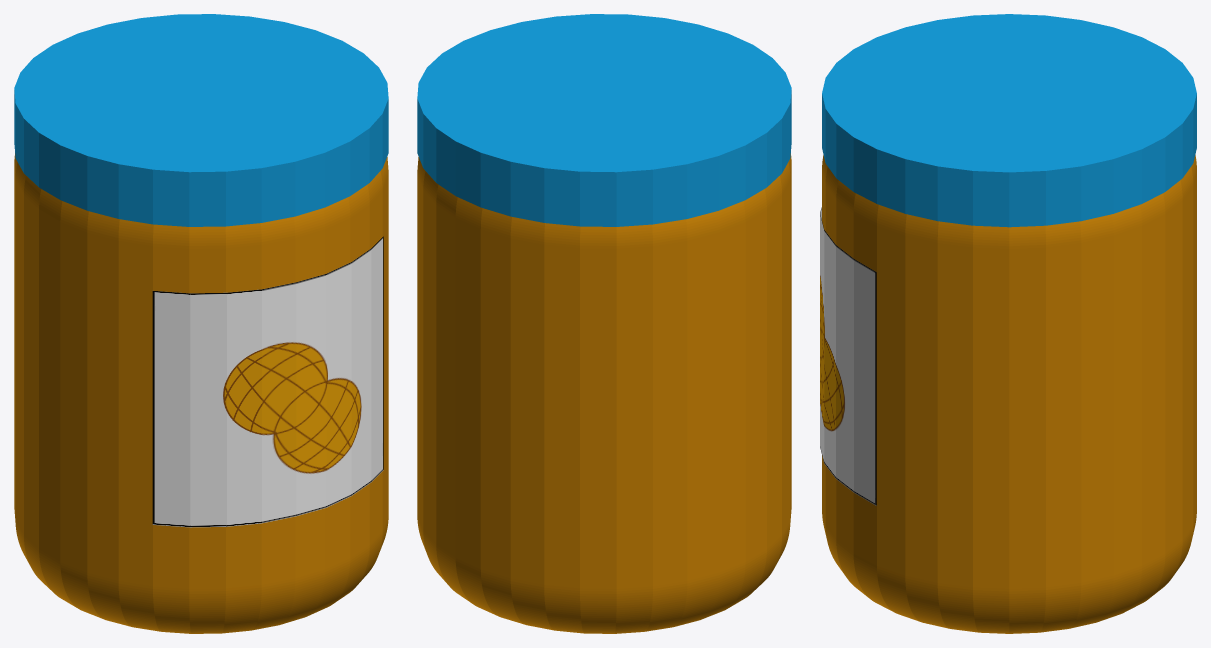
File: PeanutButter.fbx
3 renders of one model, left to right at view 1: azimuth 30°, elevation 25°; view 2: azimuth 150°, elevation 25°; view 3: azimuth 270°, elevation 25°, orthographic.
Visible parts, largest first — view 1: Cylinder, Cylinder.001, Plane; view 2: Cylinder, Cylinder.001; view 3: Cylinder, Cylinder.001, Plane.
Part boxes in pixels (x1,y1,x2,y2): Cylinder: [14, 153, 388, 633]; Cylinder.001: [14, 14, 388, 226]; Plane: [152, 236, 383, 527]; Cylinder: [417, 153, 791, 633]; Cylinder.001: [417, 14, 791, 226]; Cylinder: [822, 155, 1196, 633]; Cylinder.001: [822, 14, 1196, 227]; Plane: [820, 207, 876, 505].
Bounding box in the file's own units: 200 × 282 × 201.
